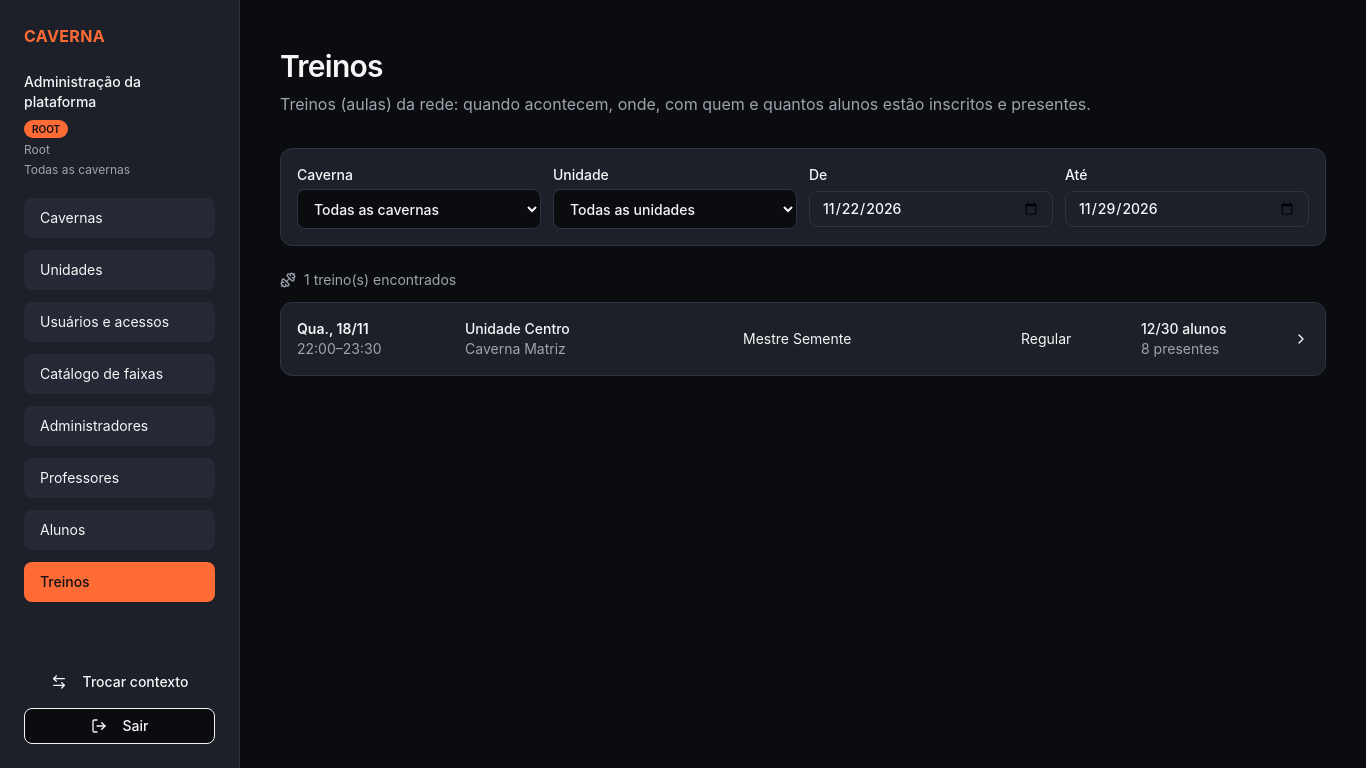
Test: hides "Gerenciar aula" from the platform context, which cannot open classes
Step 1. Click the button that starts with "qua., 18/11" → coordinates (803, 339), box left=281, top=303, right=1325, bottom=375
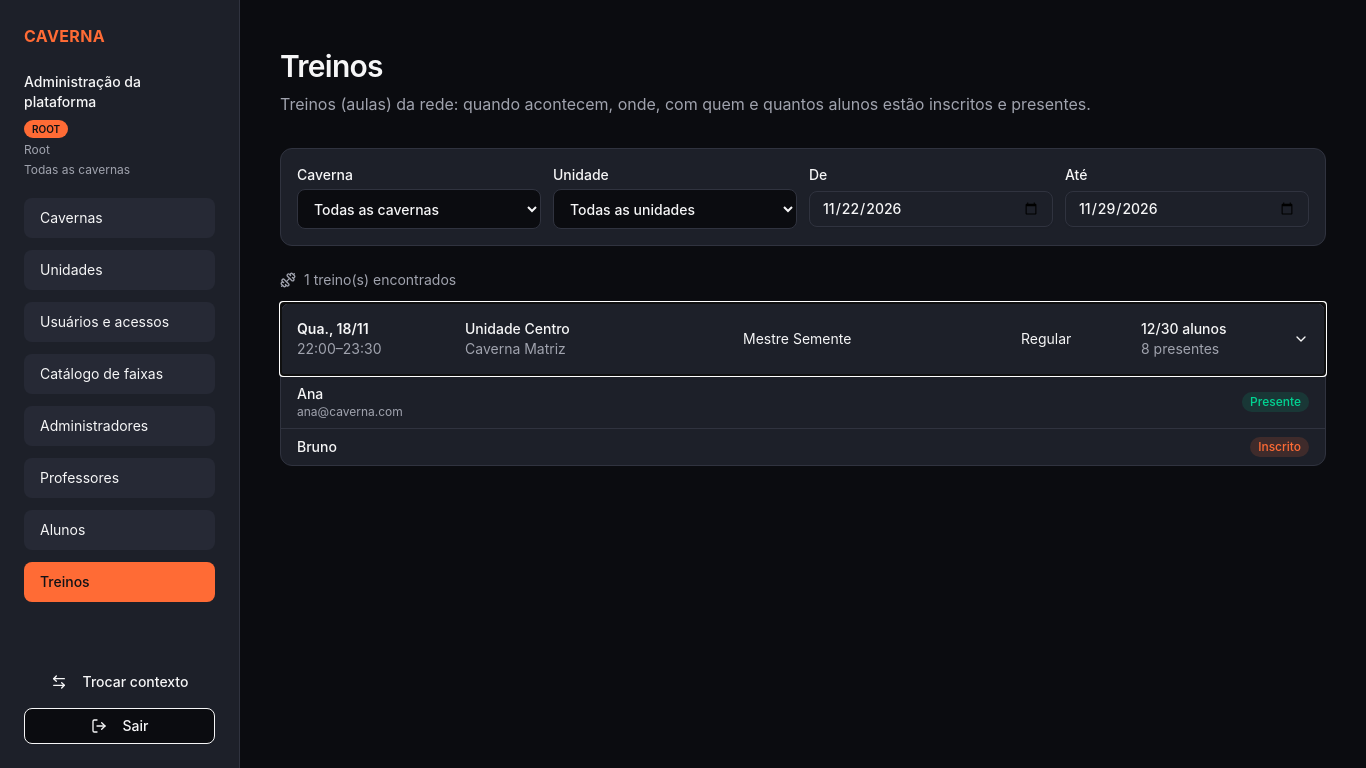
Now the text "Ana" is shown, box left=297, top=385, right=323, bottom=402
